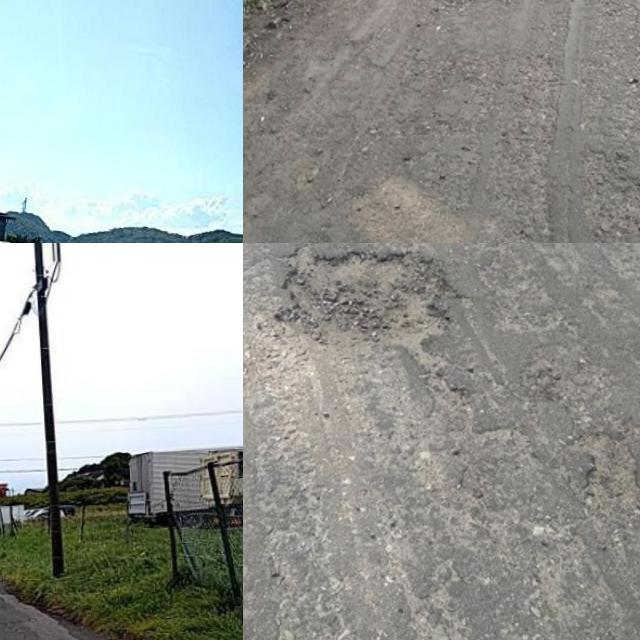Lubang: (285, 250, 461, 349), (419, 0, 481, 16)
